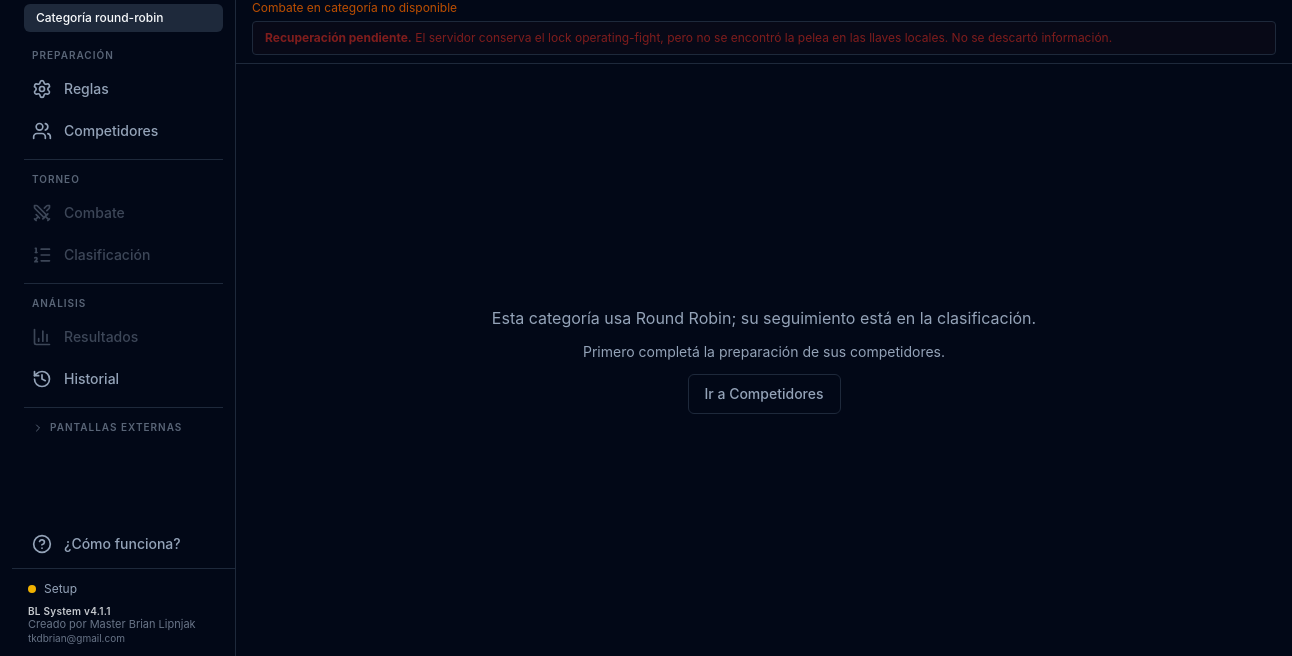
Test: navegación del formato de la categoría consultada › returns to preparation rather than a disabled round-robin view during setup
Click the link "Ir a Competidores".
click(764, 394)  # box [688,374,840,414]
(page scrolled)
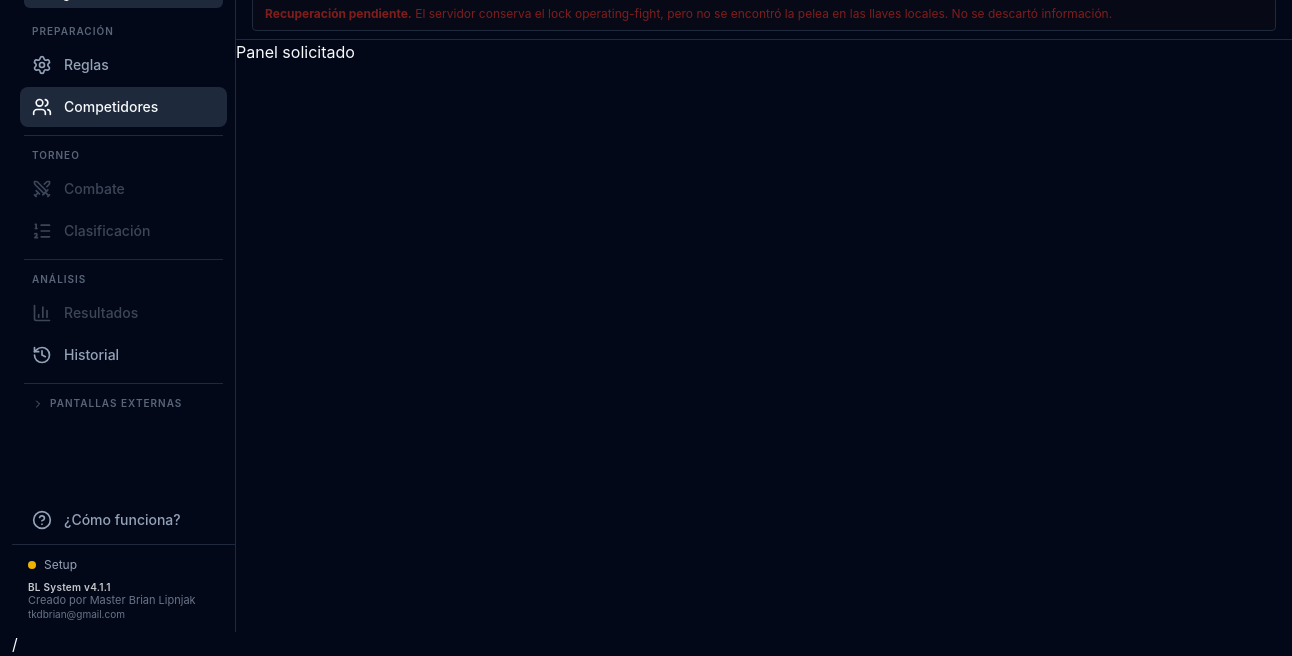
Result: the text with test id "location" reads "/" at [12,634,18,654]
